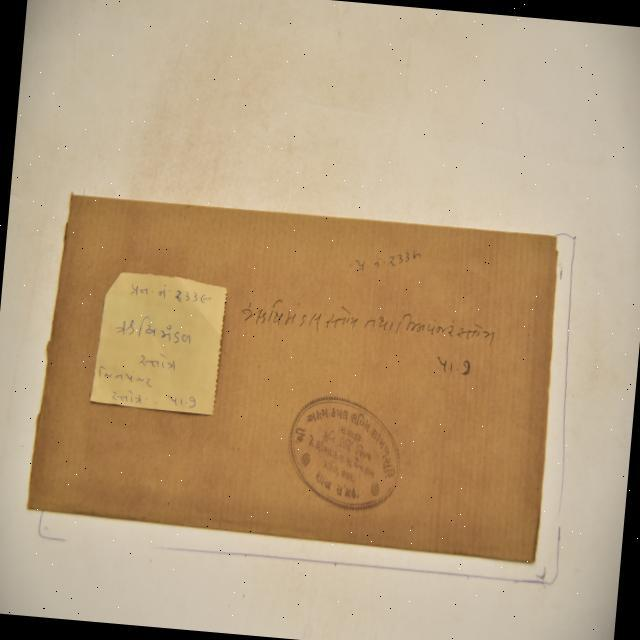text_paragraph: (27, 196, 557, 561)
